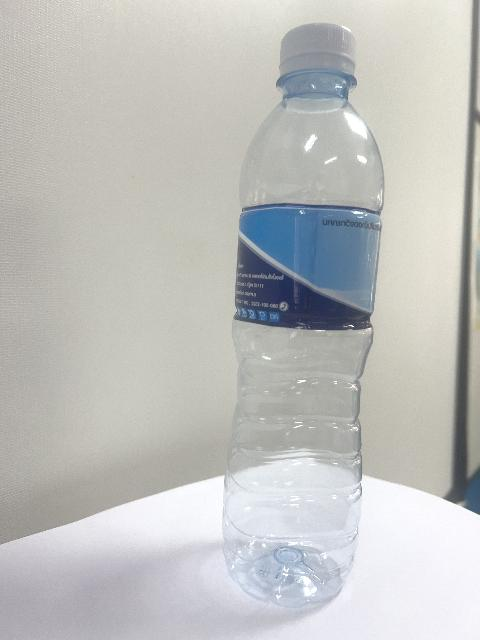bottle: (222, 24, 382, 607)
